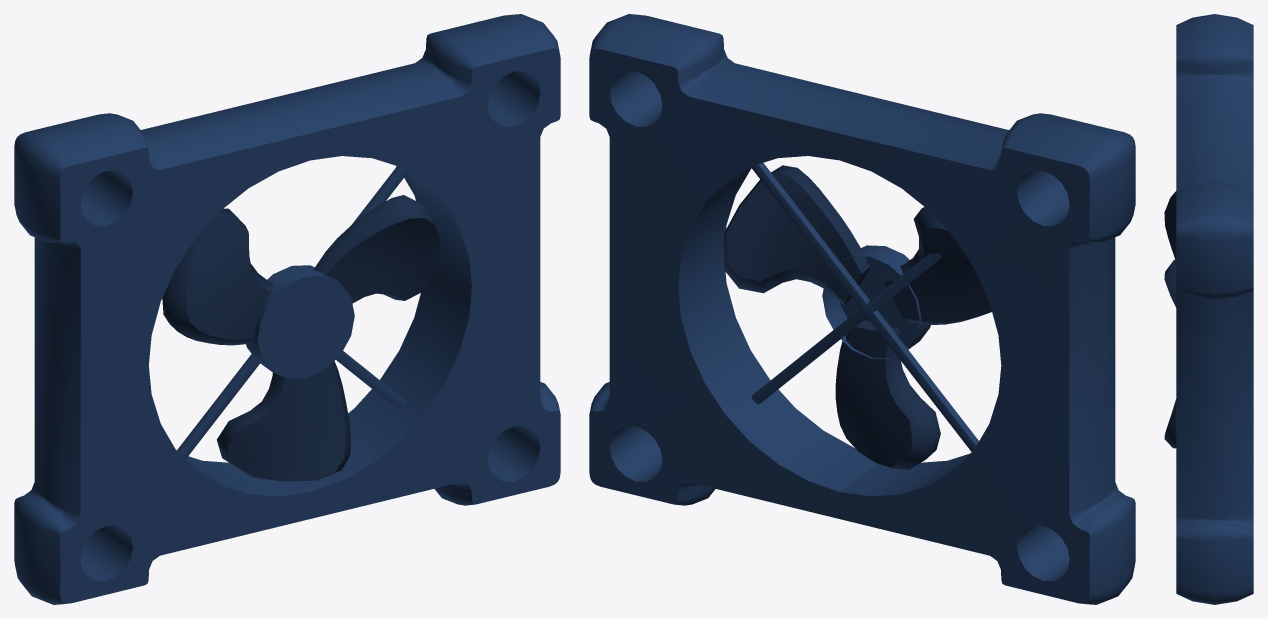
File: chuifengji_posun.FBX
3 views of the same model, side by side, from view 1: azimuth 30°, elevation 25°; view 2: azimuth 150°, elevation 25°; view 3: azimuth 270°, elevation 25° (orthographic). The views are drawn at different scales.
Parts seen in each view (by area): view 1: chuifengji_posui_02, chuifengji_posui_03, chuifengji_posui_01; view 2: chuifengji_posui_02, chuifengji_posui_03, chuifengji_posui_01; view 3: chuifengji_posui_03, chuifengji_posui_02, chuifengji_posui_01.
Part boxes in pixels (x1,y1,x2,y2): chuifengji_posui_02: [14, 98, 317, 604]; chuifengji_posui_03: [266, 14, 560, 518]; chuifengji_posui_01: [162, 166, 440, 481]; chuifengji_posui_02: [832, 98, 1135, 604]; chuifengji_posui_03: [589, 14, 884, 518]; chuifengji_posui_01: [723, 163, 991, 470]; chuifengji_posui_03: [1176, 135, 1253, 604]; chuifengji_posui_02: [1176, 14, 1253, 146]; chuifengji_posui_01: [1164, 191, 1176, 448].
Size of the model in its own units: 141 by 119 by 24.66.
